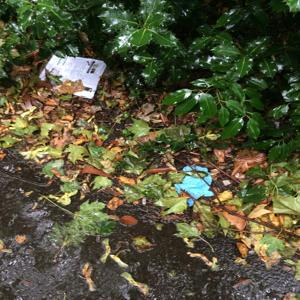paper: (31, 45, 116, 103)
plastic: (173, 156, 222, 211)
